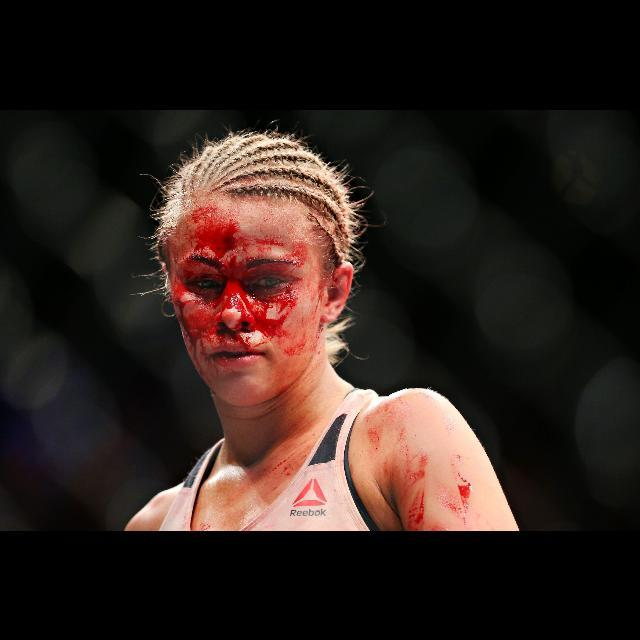blood: (169, 208, 311, 385), (351, 397, 473, 530), (242, 454, 331, 530)
